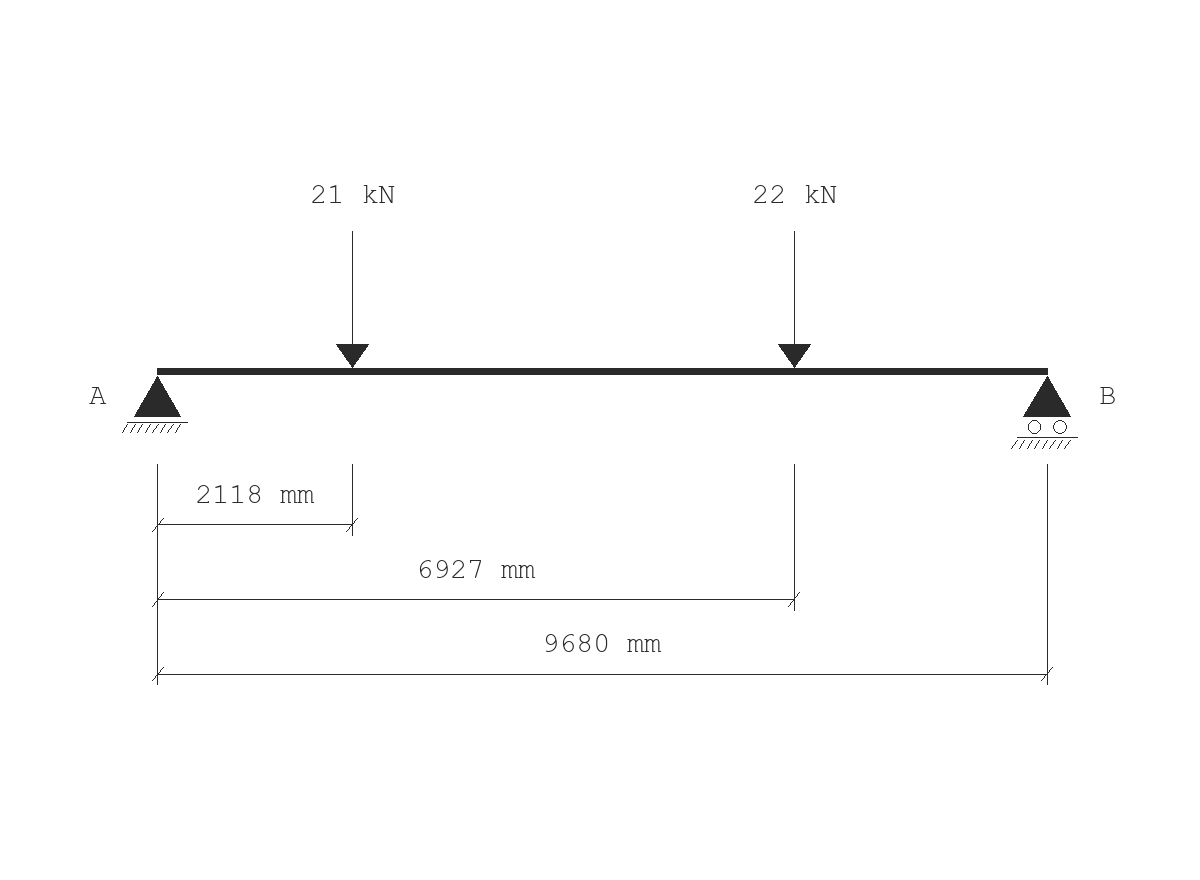pin_support: (122, 376, 188, 433)
point_load: (336, 231, 369, 368), (778, 231, 811, 368)
roller_support: (1011, 376, 1078, 449)
